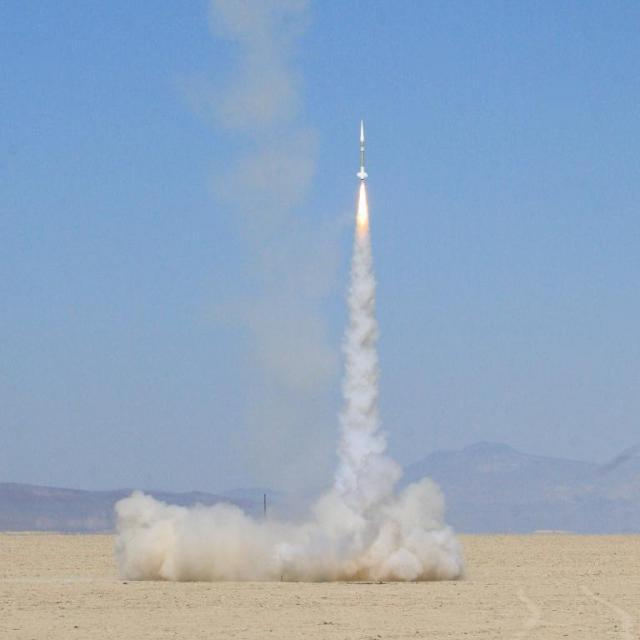Missile: (355, 119, 368, 181)
